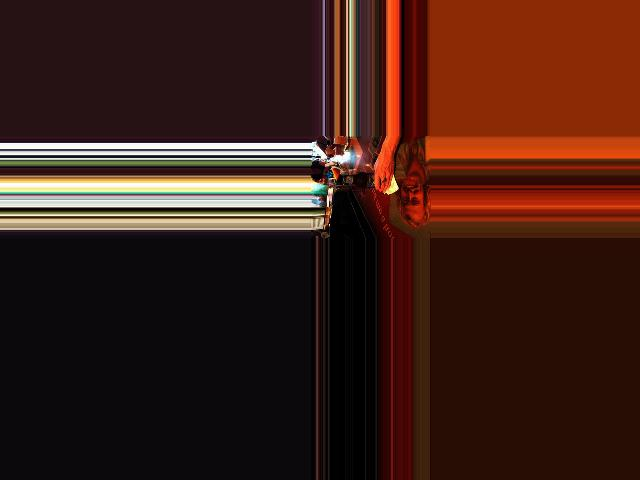beer: (335, 173, 390, 188)
